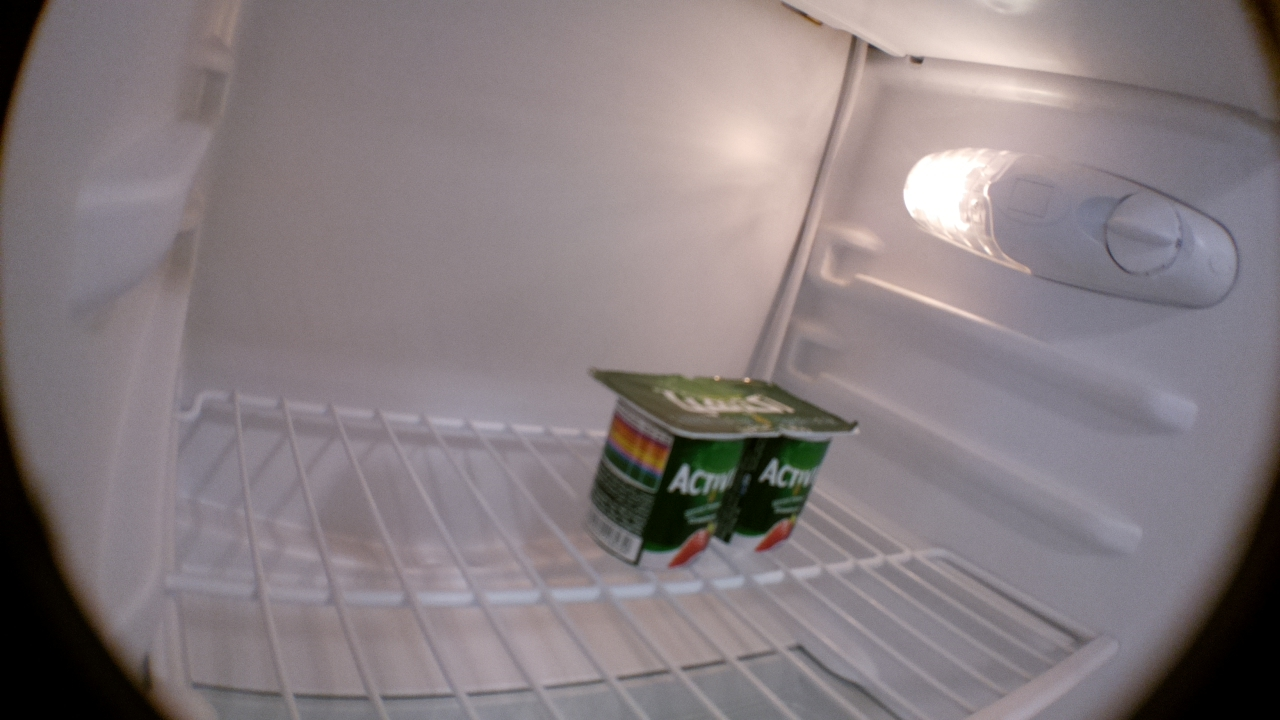yoghurt: (579, 366, 776, 569), (709, 378, 858, 557)
